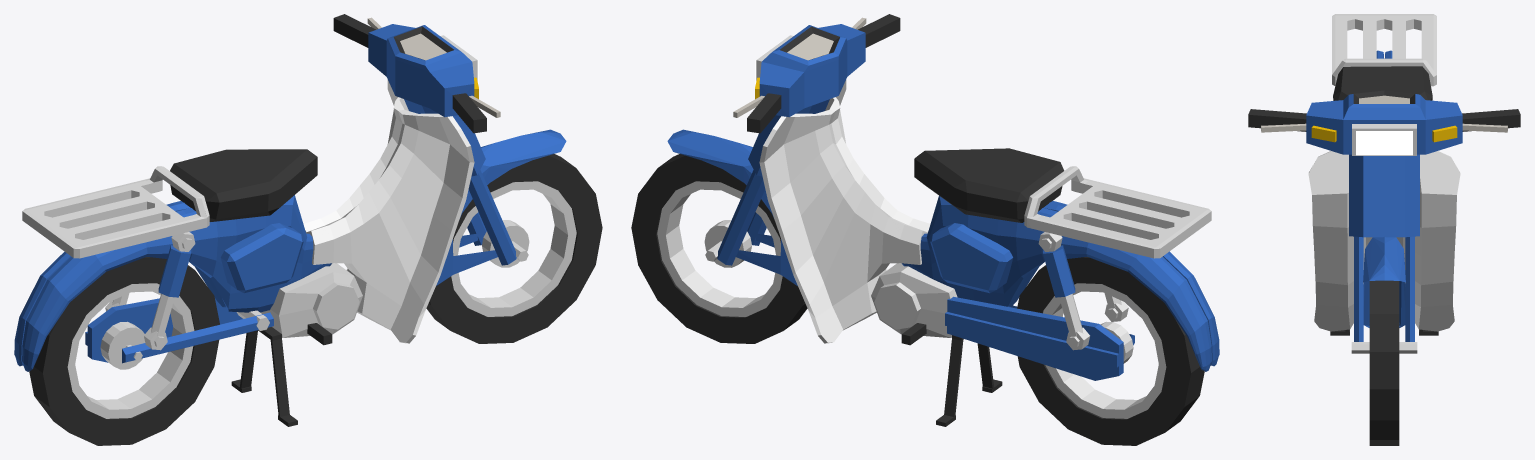
Rendered from birdy.glb.
3 views of the same model, side by side, from view 1: azimuth 30°, elevation 25°; view 2: azimuth 150°, elevation 25°; view 3: azimuth 270°, elevation 25° (orthographic). The views are drawn at different scales.
Visible parts, largest first — view 1: Birdie; view 2: Birdie; view 3: Birdie.
Part boxes in pixels (bbox=[...]): Birdie: bbox=[14, 14, 602, 445]; Birdie: bbox=[631, 14, 1219, 445]; Birdie: bbox=[1248, 14, 1520, 445].
Size of the model in its own units: 1.64 by 0.8859 by 0.7052.
3 materials, 1 textured.
